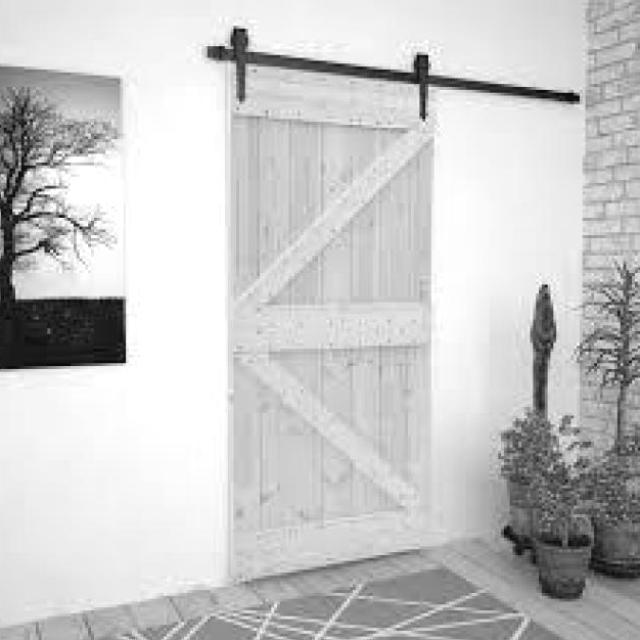door: (211, 42, 446, 598)
